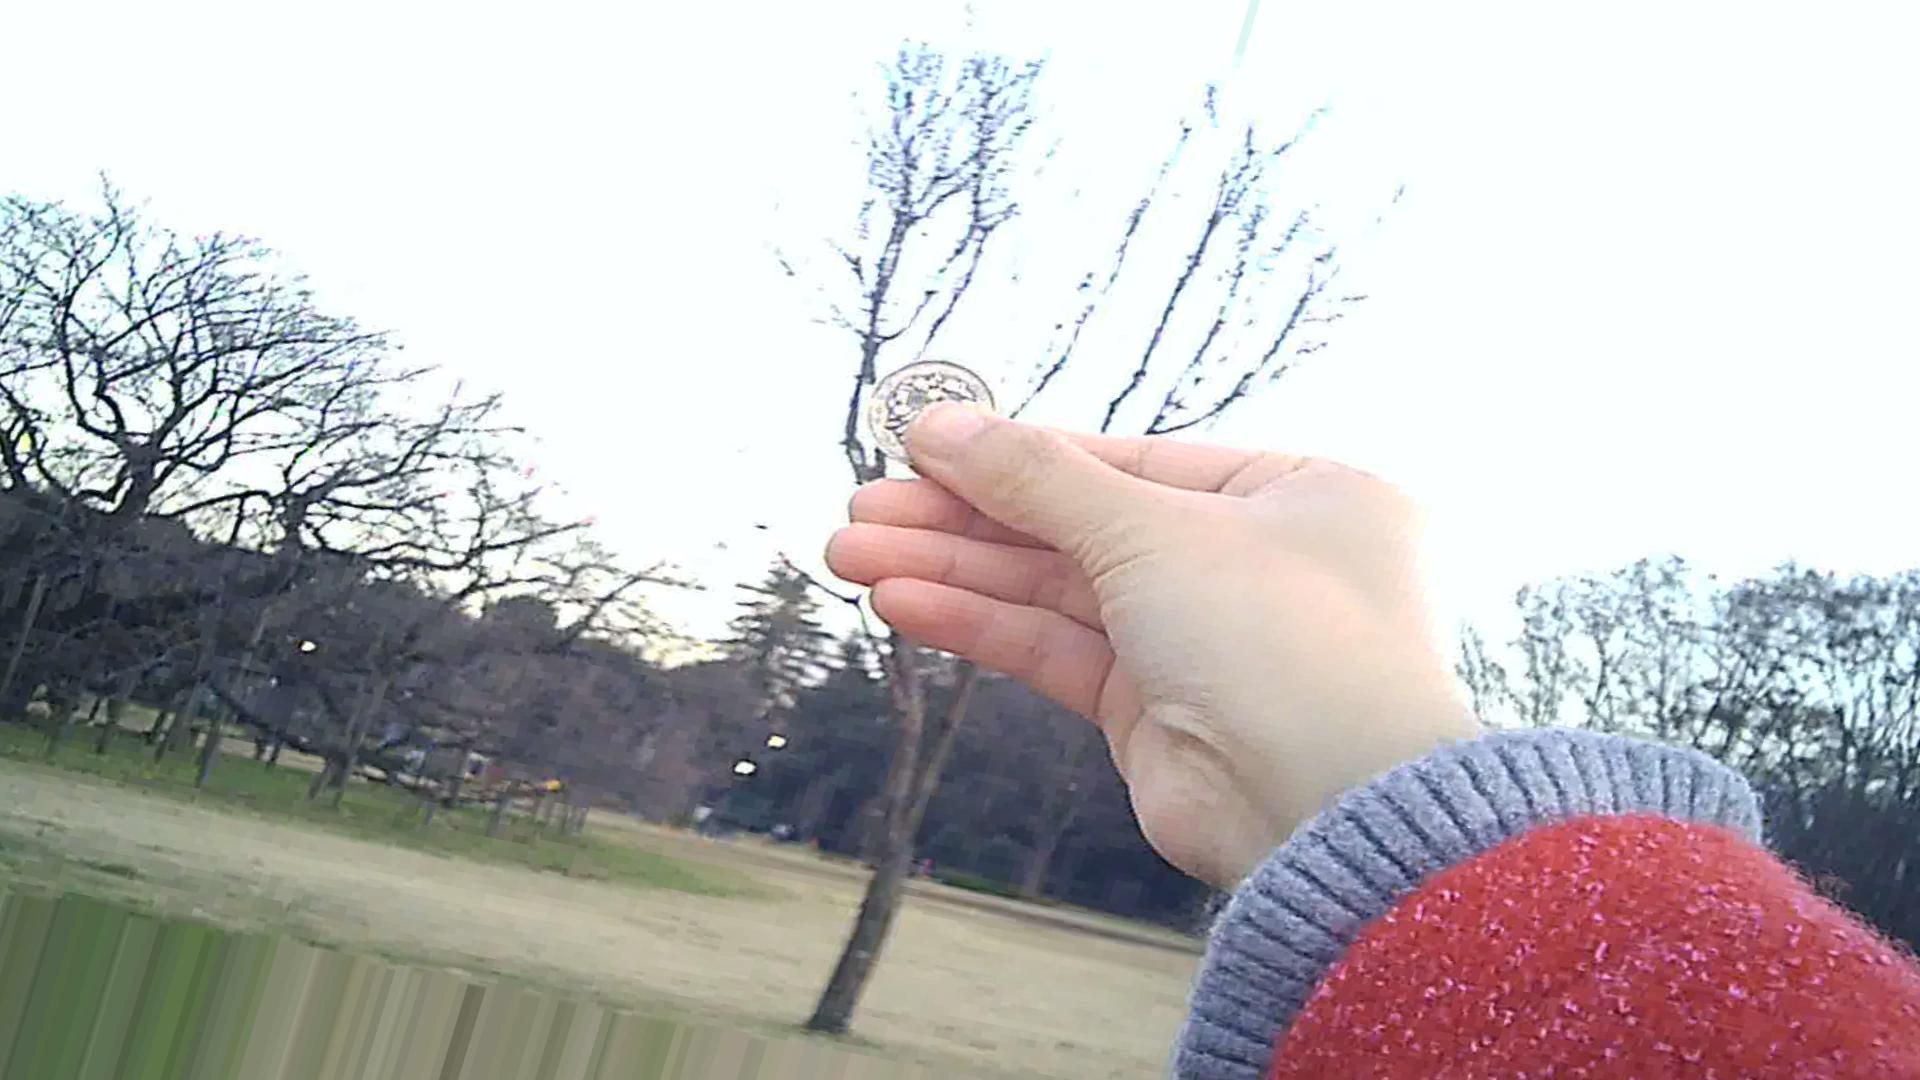100 Yen: (864, 353, 988, 462)
